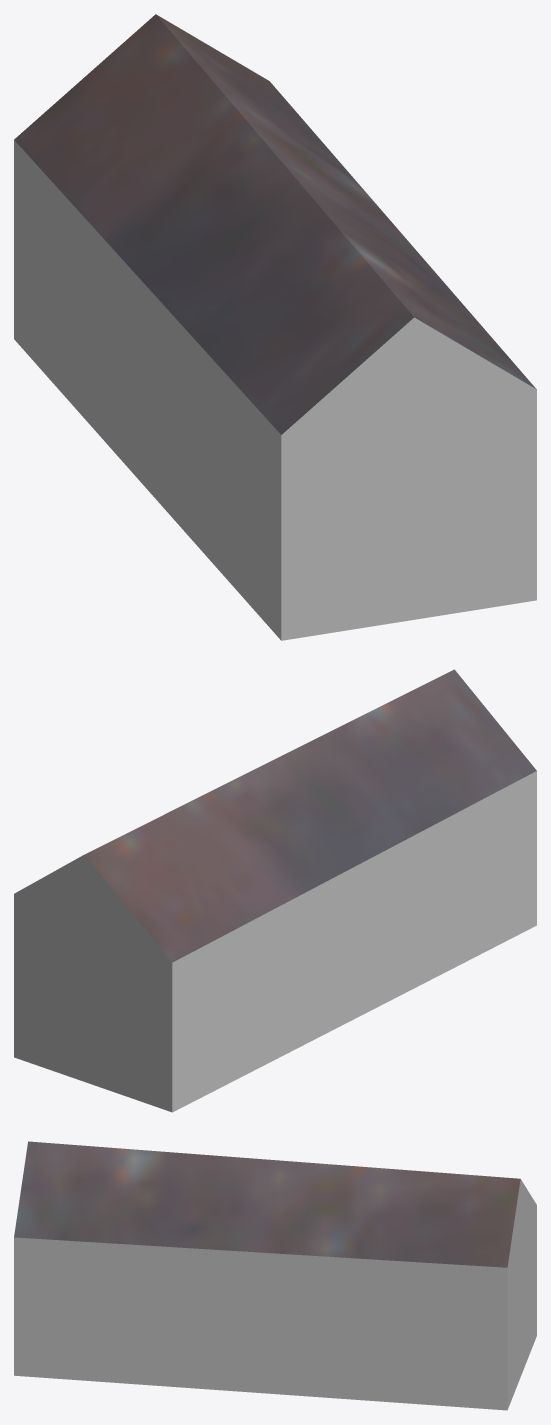
The model's file is DEBW_0010007Txb7.gltf.
3 views of the same model, one above another, from view 1: azimuth 30°, elevation 25°; view 2: azimuth 150°, elevation 25°; view 3: azimuth 270°, elevation 25° (orthographic). The views are drawn at different scales.
Parts seen in each view (by area): view 1: Z_UP; view 2: Z_UP; view 3: Z_UP.
Boxes of the visible parts, box(x1,y1,x2,y2) form: Z_UP: box(14, 14, 536, 640); Z_UP: box(14, 669, 536, 1112); Z_UP: box(14, 1141, 536, 1410).
Bounding box in the file's own units: 4.75 × 4.02 × 9.59.
Materials: 2 (1 with a texture image).
